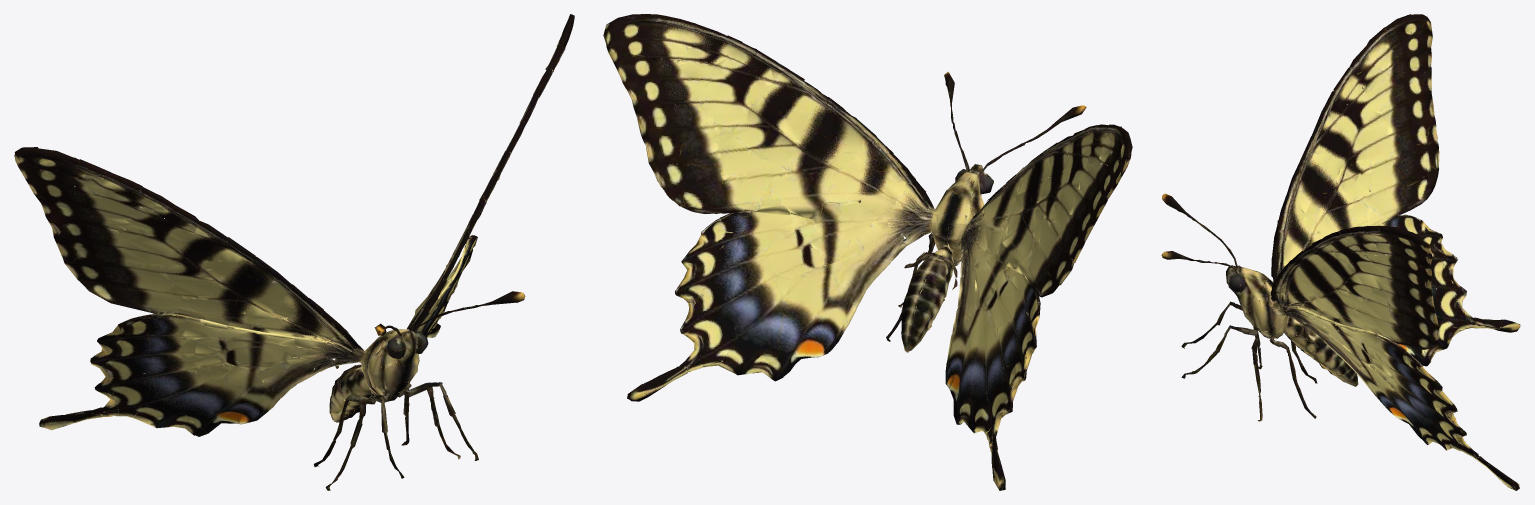
File: butterfly.glb
3 views of the same model, side by side, from view 1: azimuth 30°, elevation 25°; view 2: azimuth 150°, elevation 25°; view 3: azimuth 270°, elevation 25° (orthographic). The views are drawn at different scales.
Visible parts, largest first — view 1: Mesh_0; view 2: Mesh_0; view 3: Mesh_0.
Boxes of the visible parts, x1,y1,x2,y2 form: Mesh_0: [14, 14, 574, 490]; Mesh_0: [603, 14, 1132, 490]; Mesh_0: [1161, 14, 1520, 490].
Bounding box in the file's own units: 0.0845 × 0.05 × 0.0565.
1 material, 1 textured.
